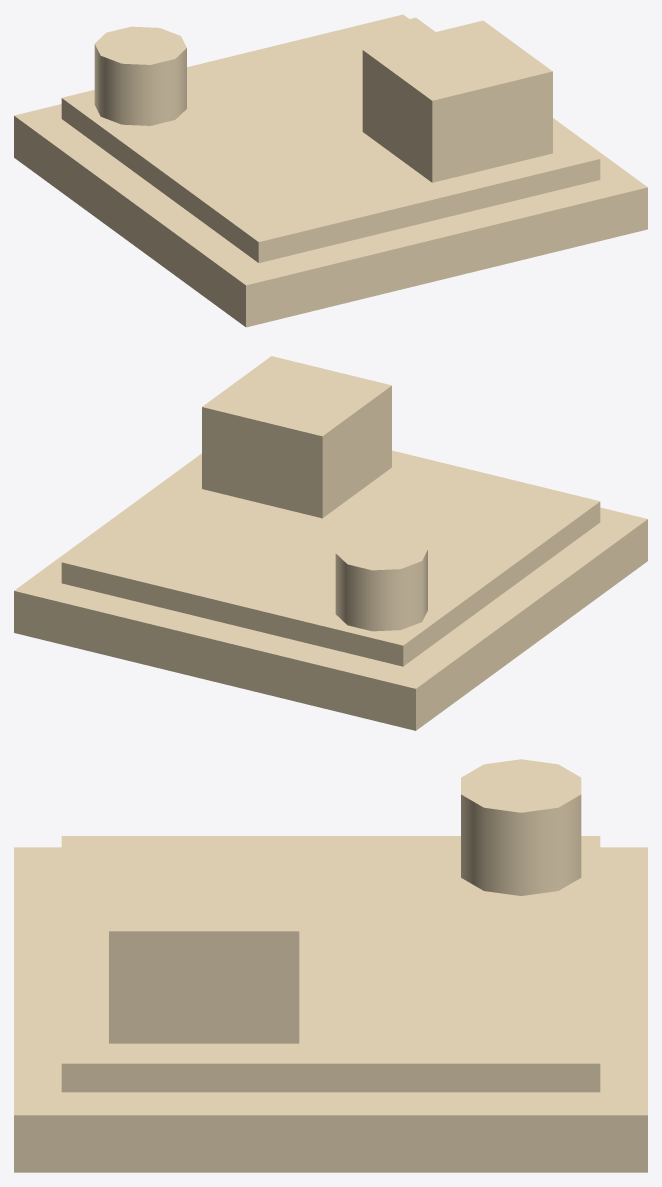
File: atlas_cartography.gltf
3 renders of one model, top to bottom at view 1: azimuth 30°, elevation 25°; view 2: azimuth 150°, elevation 25°; view 3: azimuth 270°, elevation 25°, orthographic. The views are drawn at different scales.
Visible parts, largest first — view 1: atlas_cartography; view 2: atlas_cartography; view 3: atlas_cartography.
Boxes of the visible parts, x1,y1,x2,y2 form: atlas_cartography: [14, 14, 647, 327]; atlas_cartography: [14, 356, 647, 730]; atlas_cartography: [14, 759, 647, 1172].
Size of the model in its own units: 1 by 0.35 by 1.
